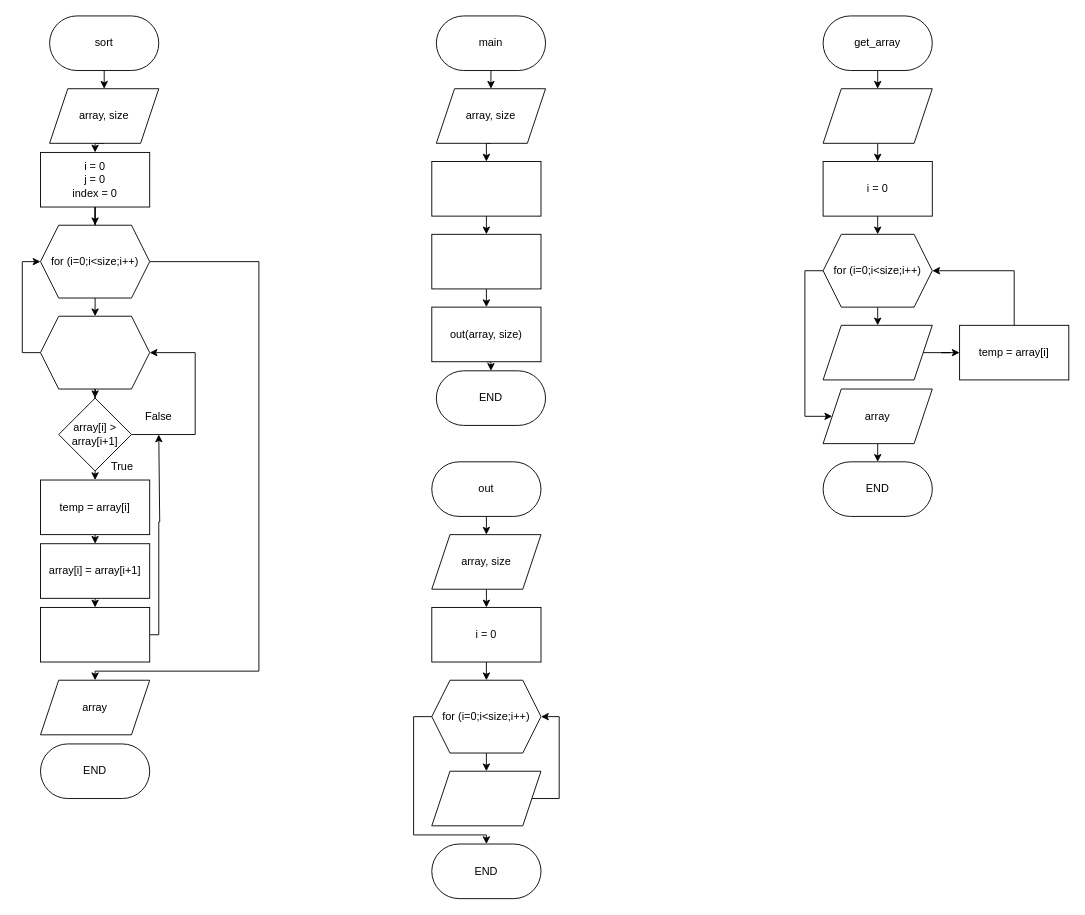
Image size: 1085x915. Some labels were removed from this diagram. Each missing label, with the centre of its shape:
array = get_array(size): (x=486, y=188)
array[i+1] = temp: (x=95, y=634)
array[i]: (x=486, y=798)
for (j=0;j<size;j++): (x=95, y=352)
size: (x=877, y=115)
sorted = sort(array, size): (x=486, y=261)
temp: (x=877, y=352)
